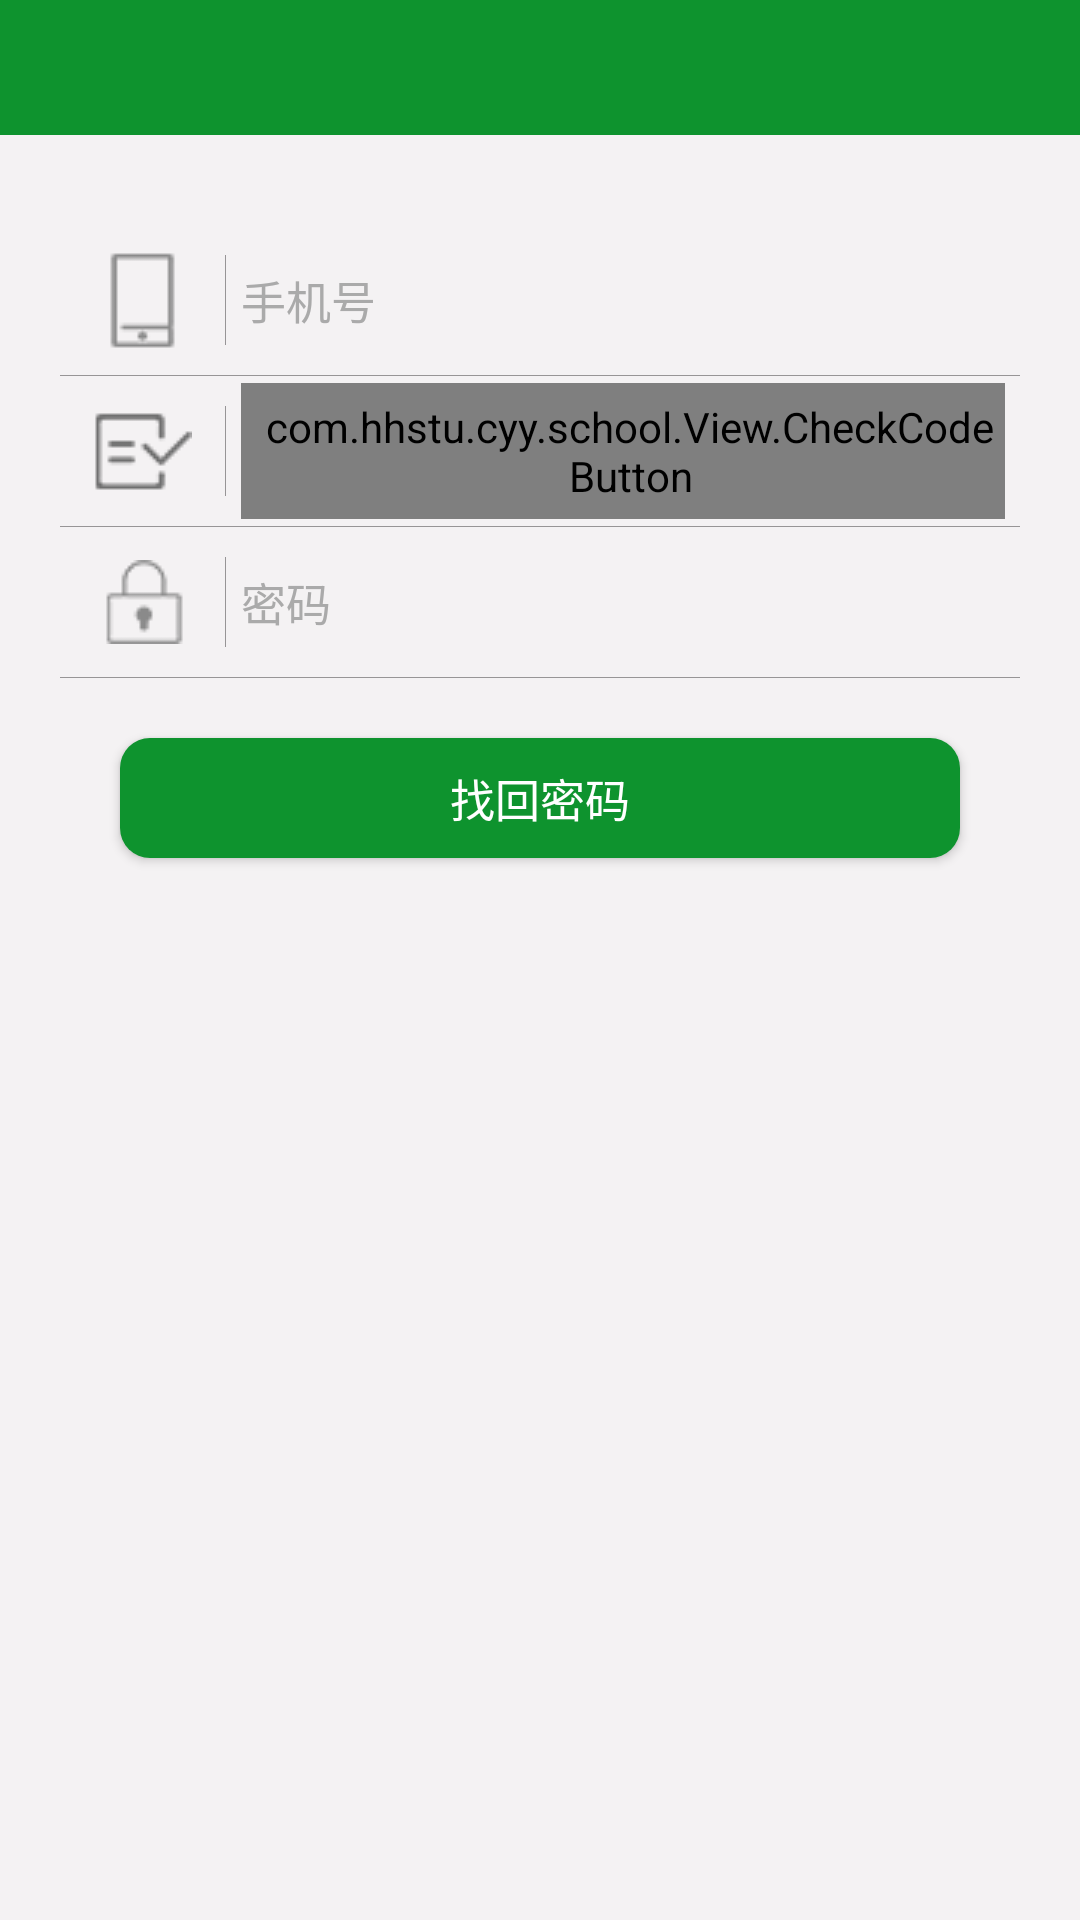

Icons on this 1080×1920 Android screen, each with the point to tap as point (x, y):
register password: point (144, 602)
register phone: point (142, 300)
register sms: point (143, 451)
